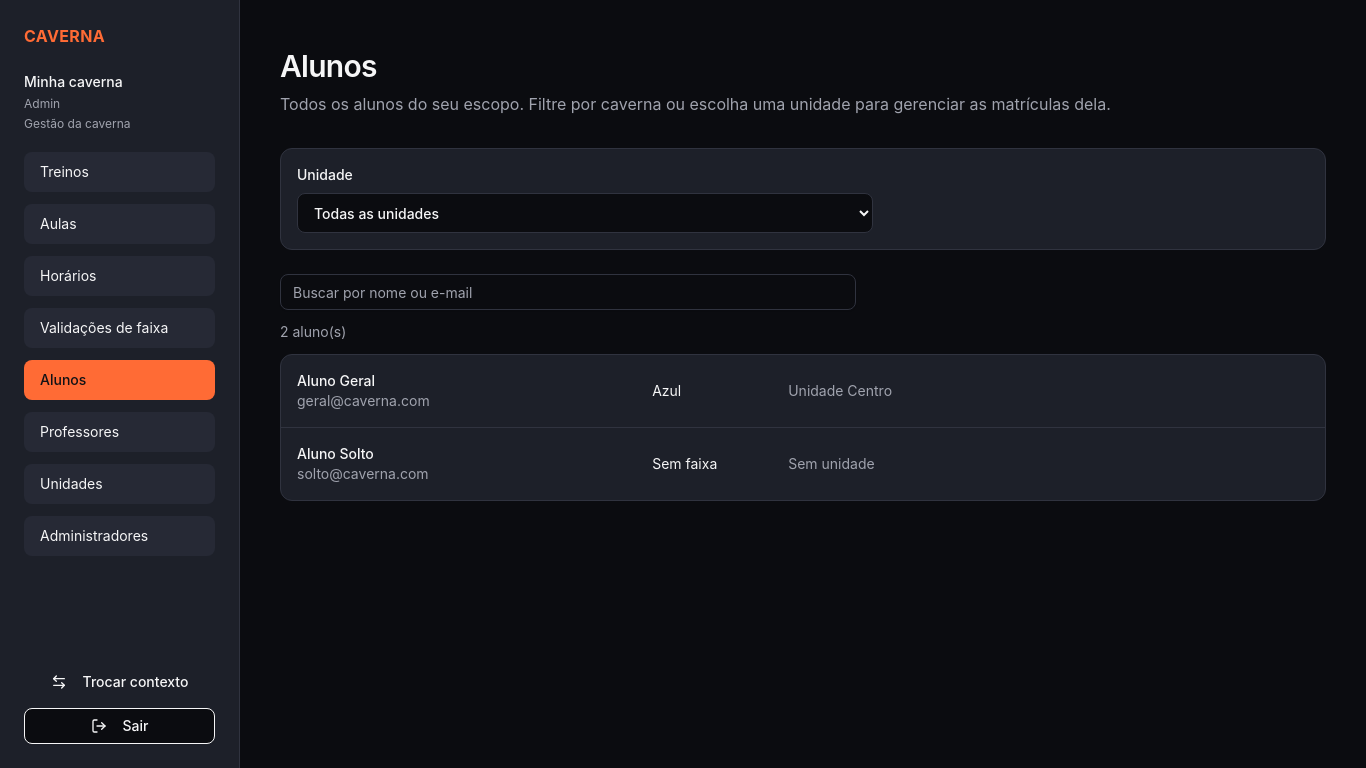
Scenario: "Validar faixa" shortcut › links to the evaluations page in a cave admin context
Select "Unidade Centro · Centro" in the dropdown labelled "Unidade" at (585, 213), box [297,193,873,233]
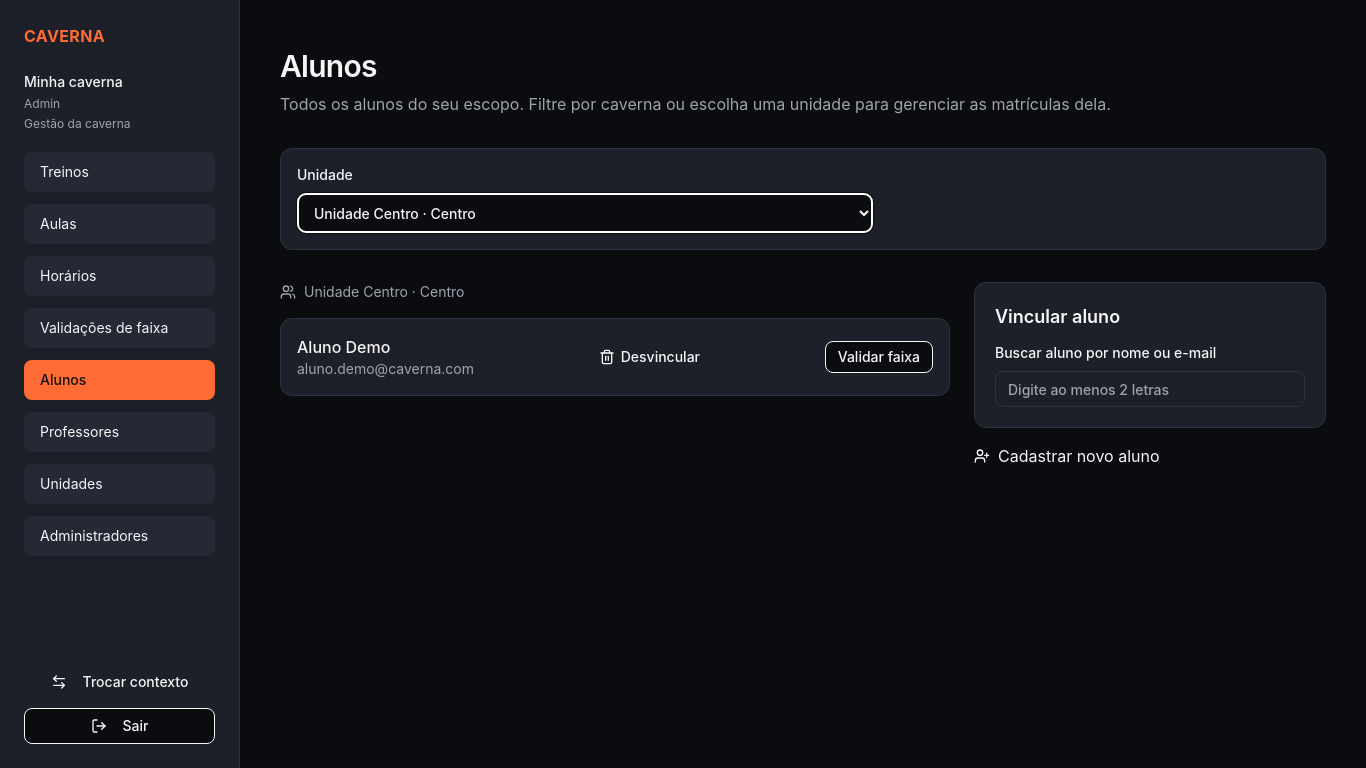
Now the text "Aluno Demo" is shown, box [297,337,390,357]
